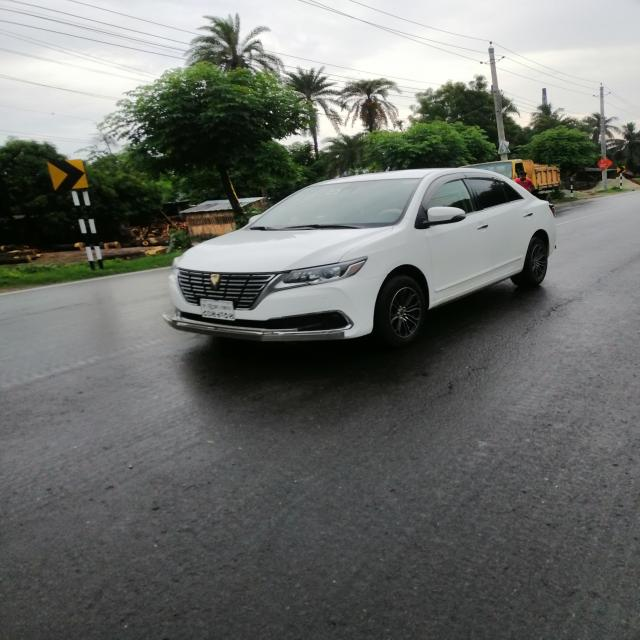Car: (165, 165, 562, 347)
